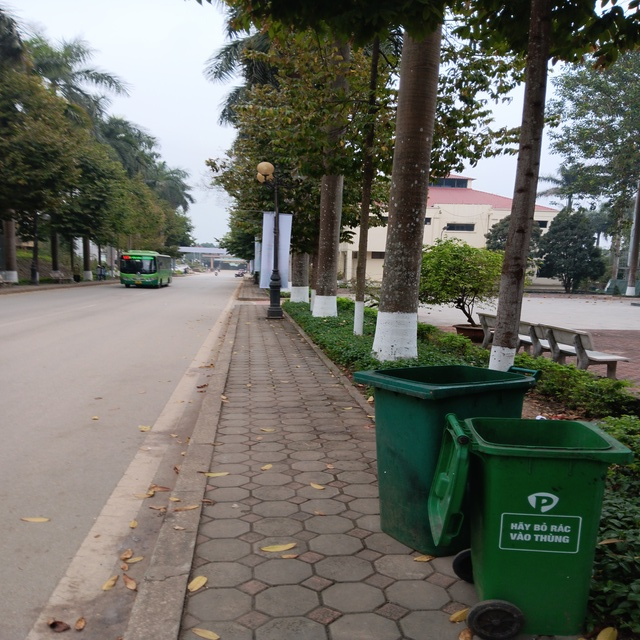thungrac: (441, 403, 634, 640), (342, 349, 521, 560)
